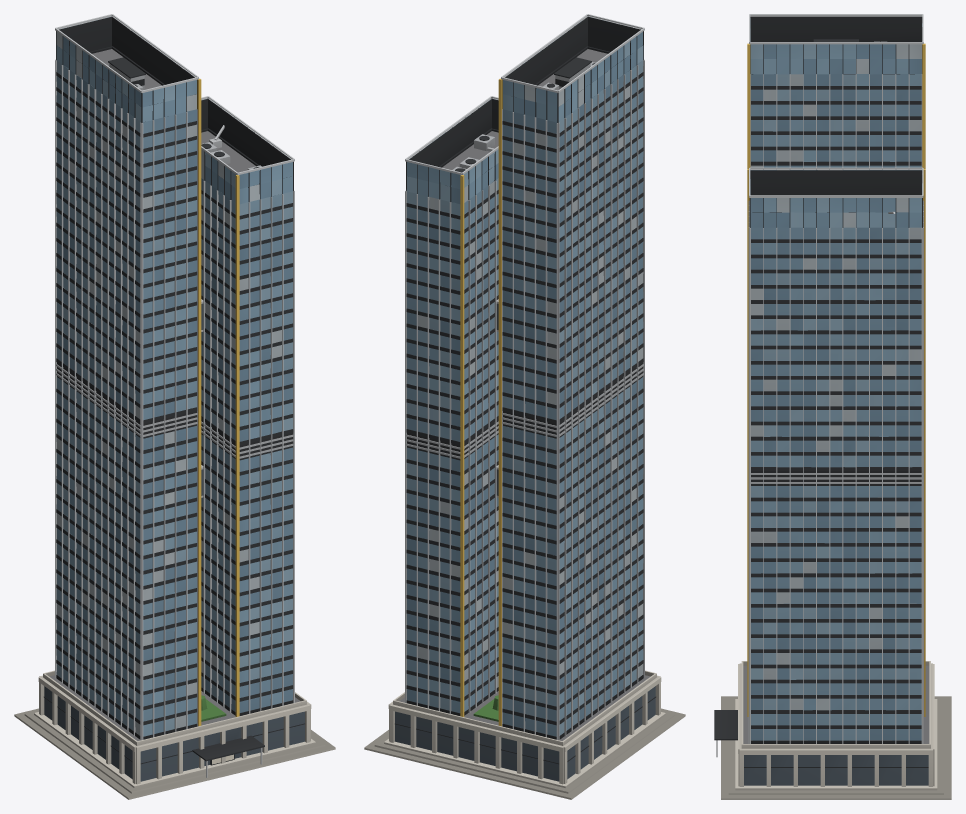
3 renders of one model, left to right at view 1: azimuth 30°, elevation 25°; view 2: azimuth 150°, elevation 25°; view 3: azimuth 270°, elevation 25°, orthographic.
Visible parts, largest first — view 1: t3; view 2: t3; view 3: t3.
Boxes of the visible parts, <box> form: t3: <box>14,14,335,799</box>; t3: <box>364,14,685,799</box>; t3: <box>714,14,951,799</box>.
Bounding box in the file's own units: 56.12 × 179 × 55.24.
